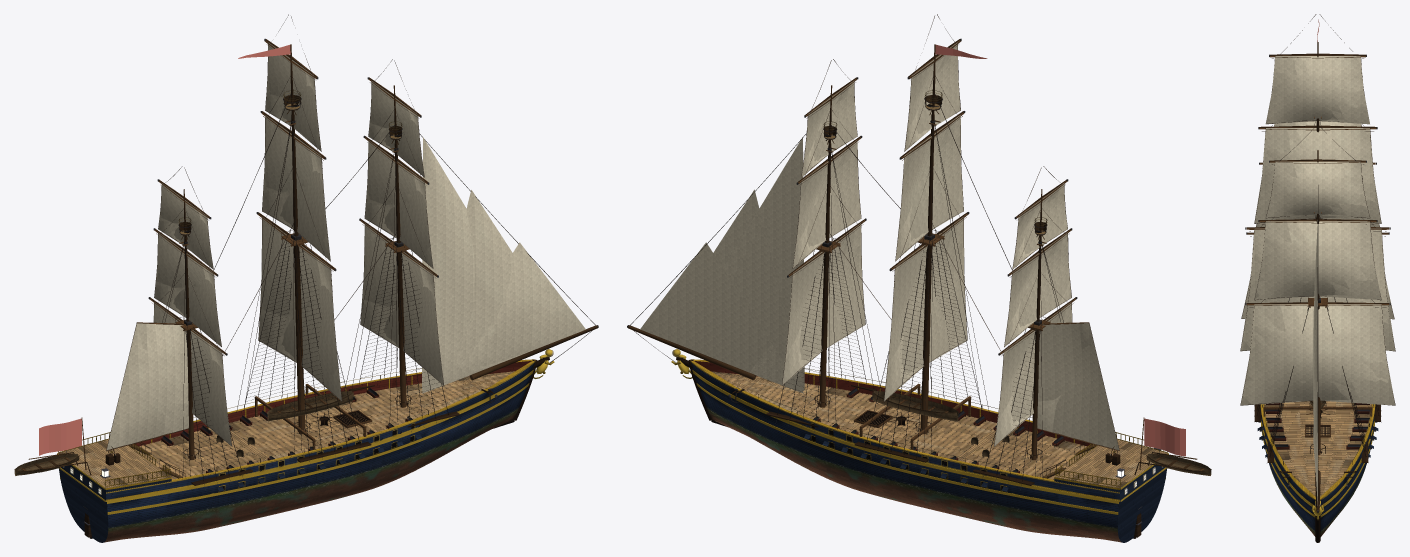
File: frigate.glb
The picture shows the model from 3 angles, left to right: view 1: azimuth 30°, elevation 25°; view 2: azimuth 150°, elevation 25°; view 3: azimuth 270°, elevation 25°; orthographic projection. The views are drawn at different scales.
Visible parts, largest first — view 1: LOD0_Wood, LOD0_Body, LOD0_Jib, LOD2_m1_SquareSail, LOD2_m0_SquareSail, LOD2_Body, LOD2_m2_SquareSail, LOD0_m2_AftSail, LOD1_Body, LOD2_Wood, LOD1_Wood, LOD0_m1_SquareSail (+13 smaller); view 2: LOD0_Wood, LOD0_Body, LOD2_Jib, LOD2_m1_SquareSail, LOD2_m0_SquareSail, LOD2_Body, LOD2_m2_SquareSail, LOD2_m2_AftSail, LOD1_Body, LOD2_Wood, LOD1_Wood, LOD0_m1_SquareSail (+12 smaller); view 3: LOD0_m0_SquareSail, LOD0_m1_SquareSail, LOD2_Body, LOD0_Wood, LOD2_m0_SquareSail, LOD1_m0_SquareSail, LOD0_Body, LOD2_m1_SquareSail, LOD1_m1_SquareSail, LOD0_Jib, LOD2_m0_SquareYards, LOD2_Wood (+9 smaller).
Part boxes in pixels (left/top/right/bottom): LOD0_Wood: left=14, top=44, right=598, bottom=542; LOD0_Body: left=60, top=95, right=554, bottom=542; LOD0_Jib: left=422, top=137, right=579, bottom=393; LOD2_m1_SquareSail: left=259, top=55, right=340, bottom=400; LOD2_m0_SquareSail: left=361, top=81, right=443, bottom=385; LOD2_Body: left=107, top=363, right=532, bottom=541; LOD2_m2_SquareSail: left=153, top=185, right=230, bottom=443; LOD0_m2_AftSail: left=107, top=324, right=188, bottom=449; LOD1_Body: left=58, top=104, right=531, bottom=541; LOD2_Wood: left=64, top=115, right=536, bottom=537; LOD1_Wood: left=59, top=95, right=597, bottom=542; LOD0_m1_SquareSail: left=258, top=42, right=339, bottom=398; LOD0_Wood: left=627, top=44, right=1211, bottom=542; LOD0_Body: left=671, top=95, right=1165, bottom=542; LOD2_Jib: left=640, top=137, right=804, bottom=392; LOD2_m1_SquareSail: left=885, top=54, right=966, bottom=397; LOD2_m0_SquareSail: left=783, top=83, right=865, bottom=381; LOD2_Body: left=693, top=363, right=1117, bottom=541; LOD2_m2_SquareSail: left=995, top=190, right=1070, bottom=438; LOD2_m2_AftSail: left=1038, top=323, right=1118, bottom=450; LOD1_Body: left=694, top=103, right=1167, bottom=541; LOD2_Wood: left=688, top=123, right=1161, bottom=537; LOD1_Wood: left=628, top=95, right=1166, bottom=542; LOD0_m1_SquareSail: left=884, top=42, right=965, bottom=401; LOD0_m0_SquareSail: left=1240, top=161, right=1387, bottom=405; LOD0_m1_SquareSail: left=1240, top=56, right=1388, bottom=350; LOD2_Body: left=1264, top=401, right=1371, bottom=532; LOD0_Wood: left=1254, top=42, right=1380, bottom=542; LOD2_m0_SquareSail: left=1241, top=161, right=1395, bottom=405; LOD1_m0_SquareSail: left=1241, top=161, right=1388, bottom=404; LOD0_Body: left=1254, top=403, right=1381, bottom=536; LOD2_m1_SquareSail: left=1241, top=56, right=1395, bottom=351; LOD1_m1_SquareSail: left=1246, top=56, right=1388, bottom=321; LOD0_Jib: left=1313, top=220, right=1317, bottom=474; LOD2_m0_SquareYards: left=1246, top=160, right=1389, bottom=306; LOD2_Wood: left=1261, top=214, right=1374, bottom=542.
Size of the model in its own units: 71.62 by 56.96 by 17.85.
Materials: 5 (3 with a texture image).
